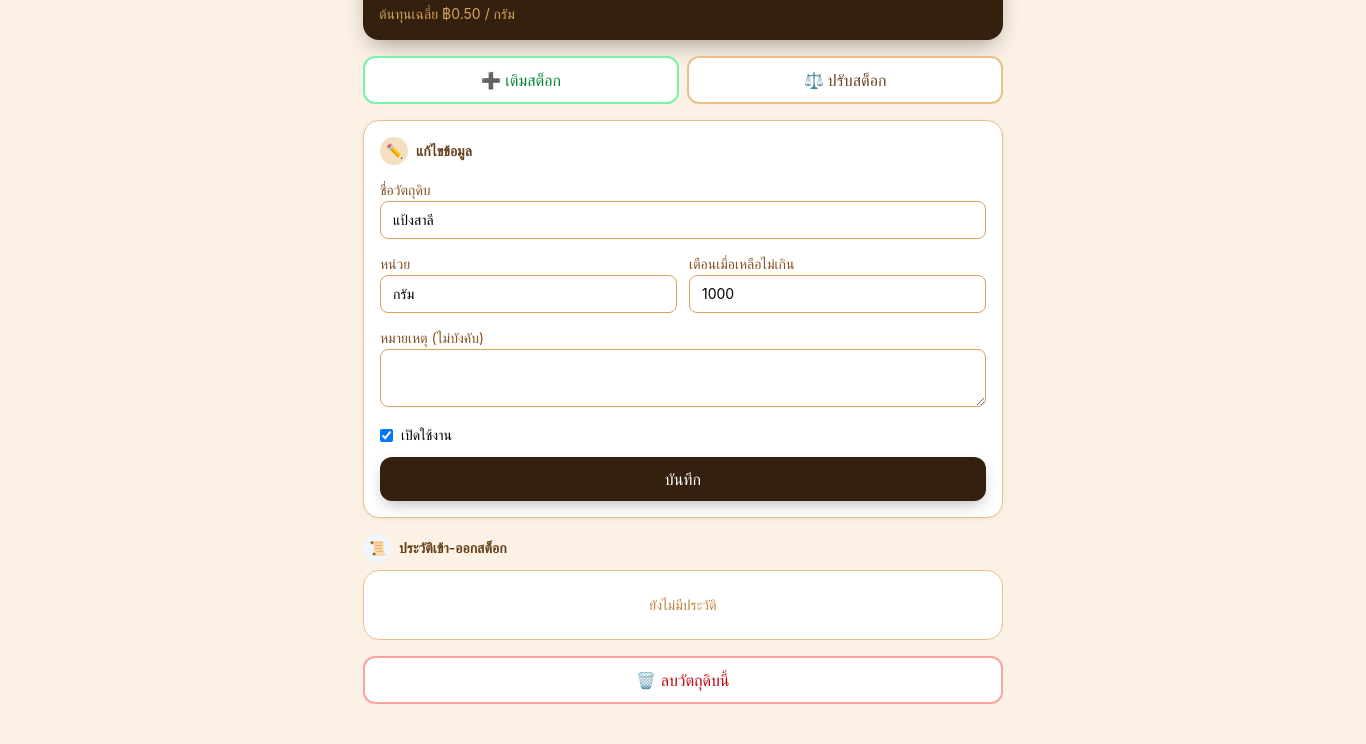
Test: IngredientDetailPage › ลบไม่สำเร็จเพราะถูกใช้ในสูตรสินค้าแล้ว แสดง error ไม่พาไปไหน
The width and height of the screenshot is (1366, 744).
(page scrolled)
What coordinates should you click on to do the following:
click the button "🗑️ ลบวัตถุดิบนี้"
I would click on:
 (683, 680)
Its box is [363,656,1003,704].
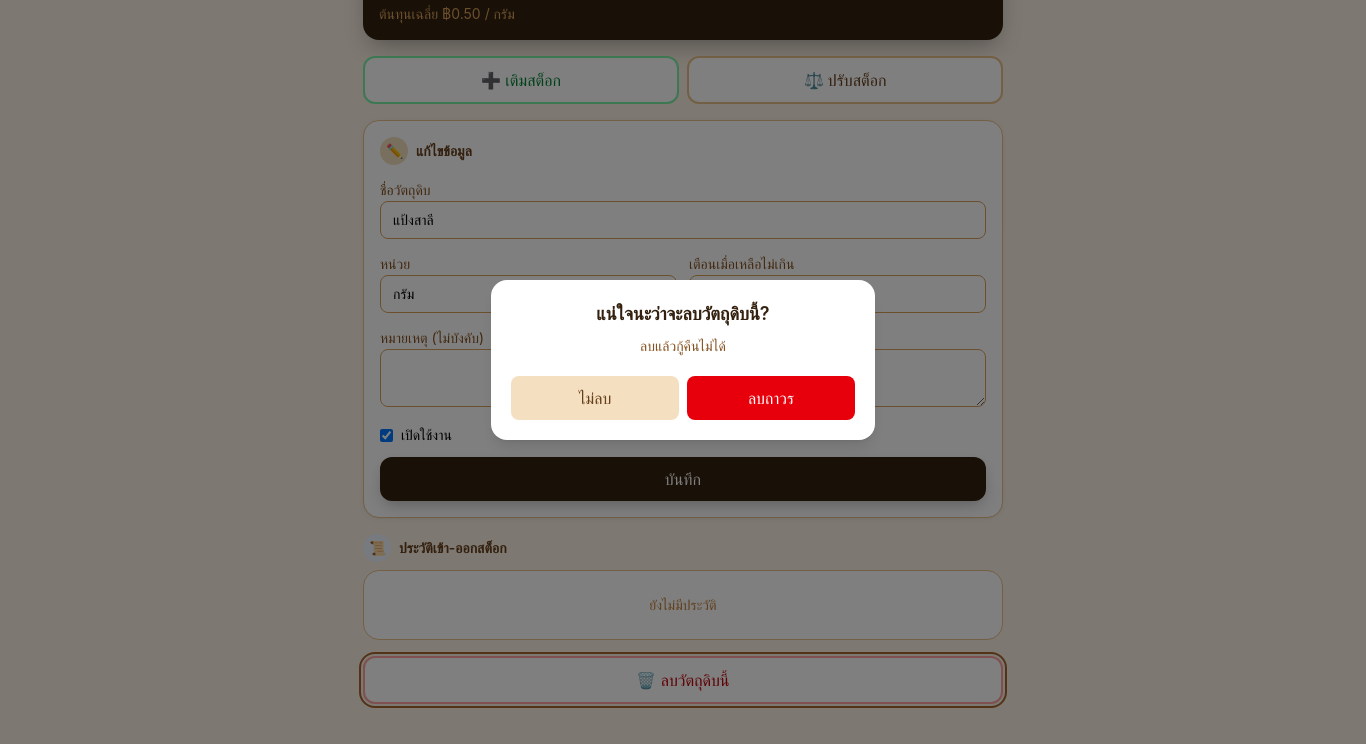
What coordinates should you click on to do the following:
click the button "ลบถาวร"
I would click on:
 (771, 398)
Its box is [687,376,855,420].
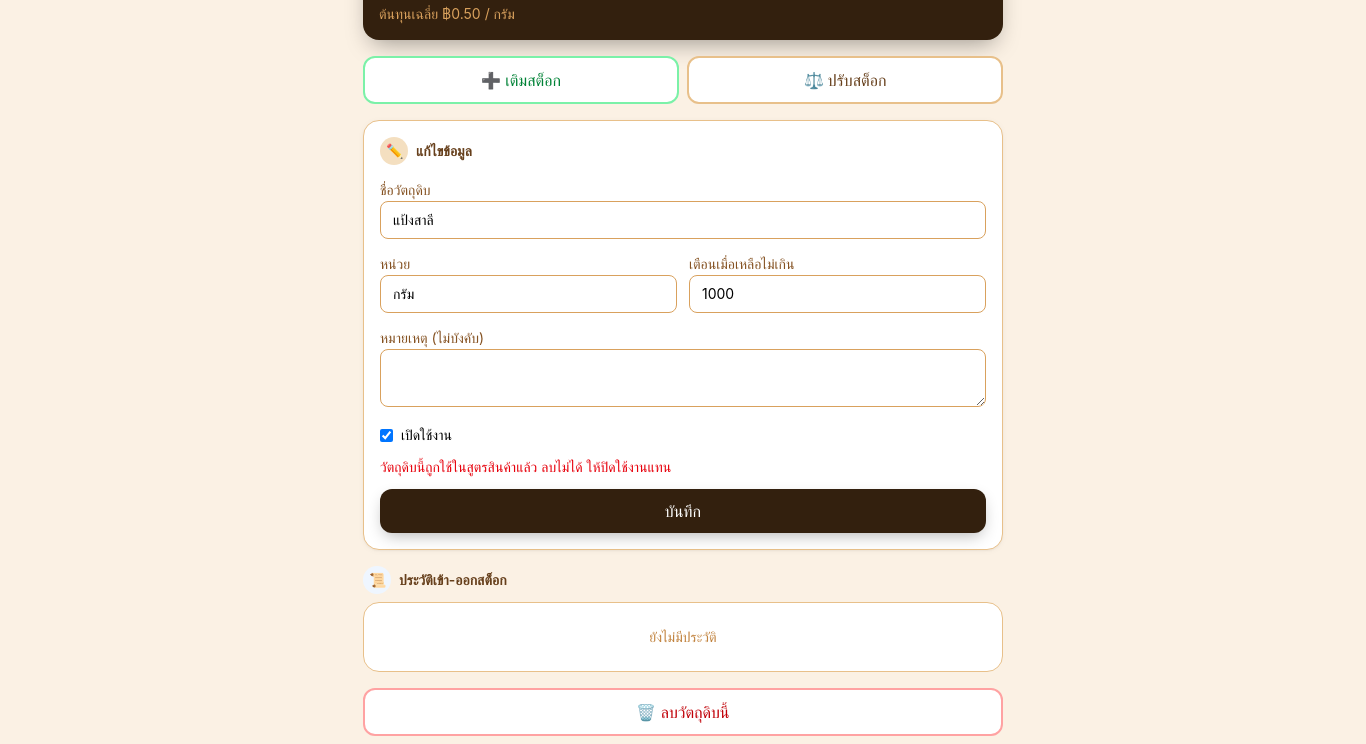
Result: the text "วัตถุดิบนี้ถูกใช้ในสูตรสินค้าแล้ว ลบไม่ได้ ให้ปิดใช้งานแทน" is shown at [380,458,671,475]
